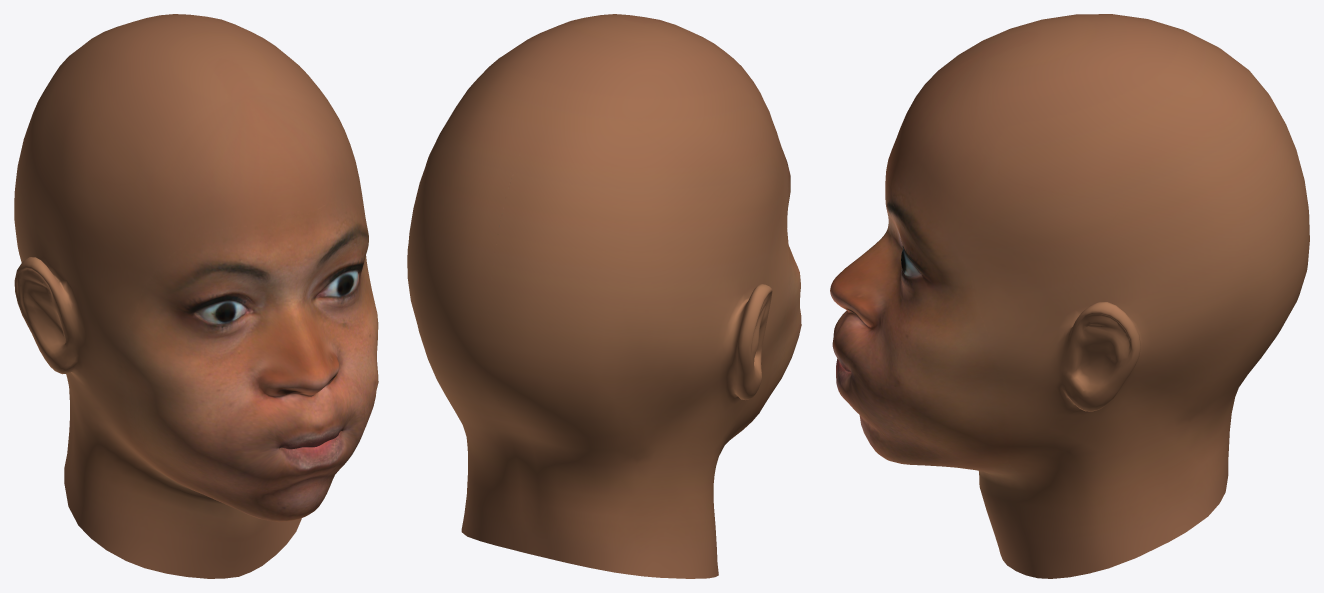
File: v332_obj_ModifierCheekPuff(AU34).obj
3 renders of one model, left to right at view 1: azimuth 30°, elevation 25°; view 2: azimuth 150°, elevation 25°; view 3: azimuth 270°, elevation 25°, orthographic. The views are drawn at different scales.
Parts seen in each view (by area): view 1: HeadHires; view 2: HeadHires; view 3: HeadHires.
Part boxes in pixels (x1,y1,x2,y2): HeadHires: (14, 14, 378, 578); HeadHires: (407, 14, 801, 578); HeadHires: (830, 14, 1309, 578).
Size of the model in its own units: 187 by 282 by 233.
